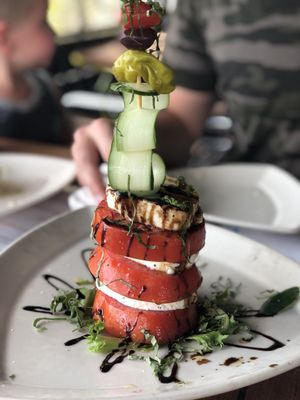pizza: (0, 1, 65, 142)
